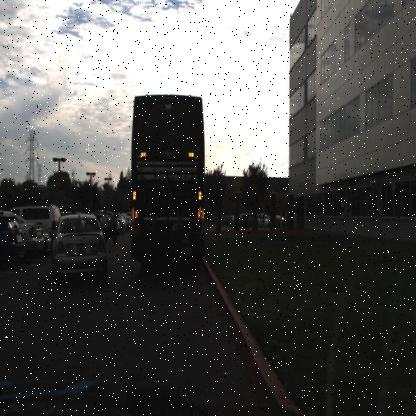car: (129, 90, 206, 272), (50, 211, 112, 287), (39, 198, 79, 238), (0, 213, 28, 270), (26, 213, 43, 259), (255, 209, 271, 227)
truck: (128, 91, 204, 267)
